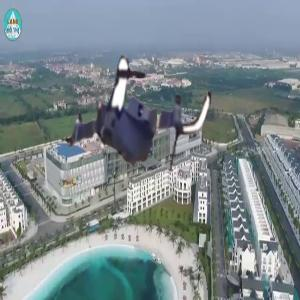drone: (60, 39, 215, 194)
